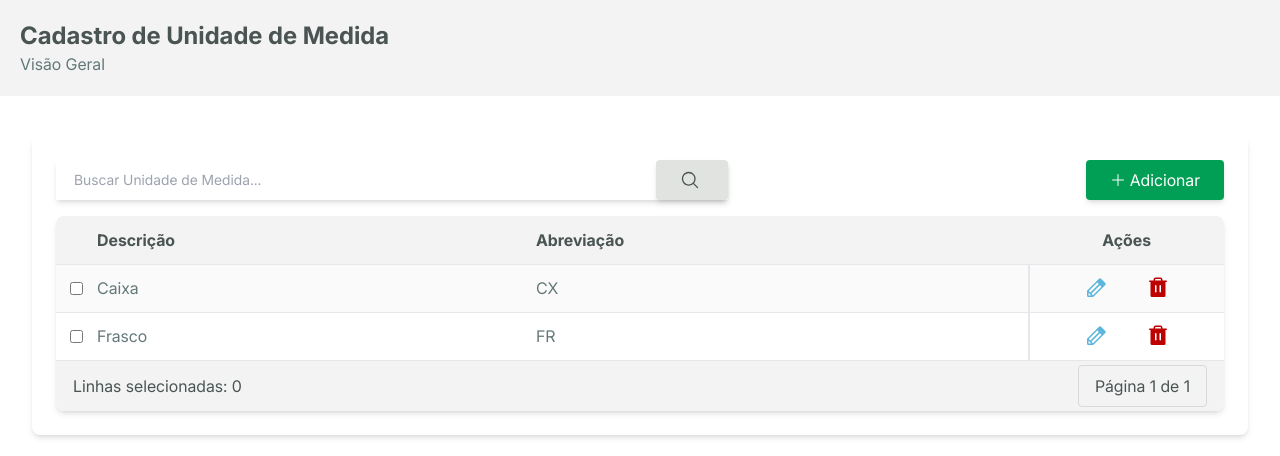
Scenario: páginas CRUD de estoque › filters listed units by description
Check: the text "Caixa" is shown, box [96,264,535,312]
Type "Caixa" into the field with placeholder "Buscar Unidade de Medida..." at (356, 180), box [56,160,656,200]
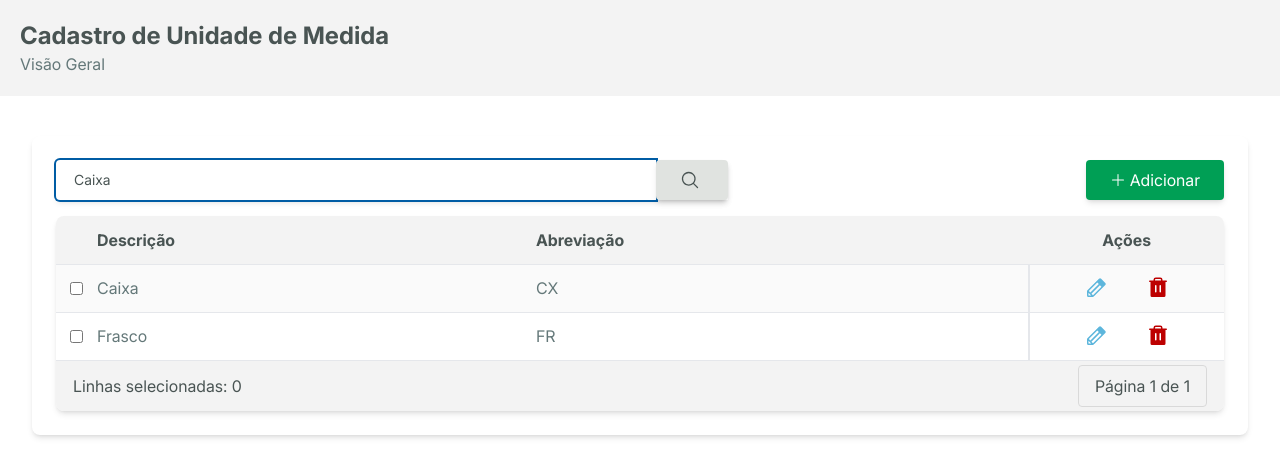
Click the button named "Buscar" at (692, 180), box [656,160,728,200]
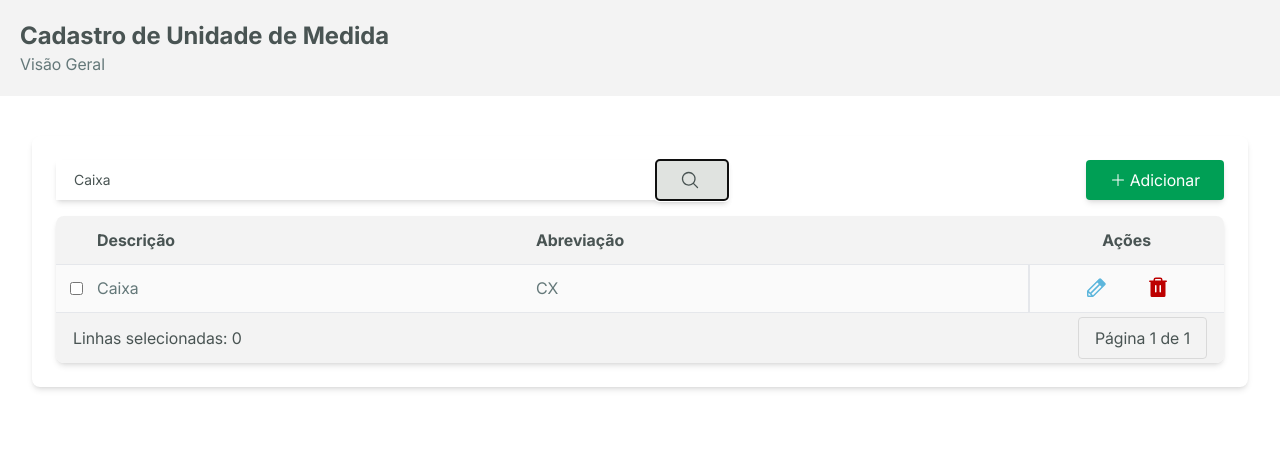
Check: the text "Caixa" is shown, box [96,264,535,312]
Check: the text "Frasco" is gone
